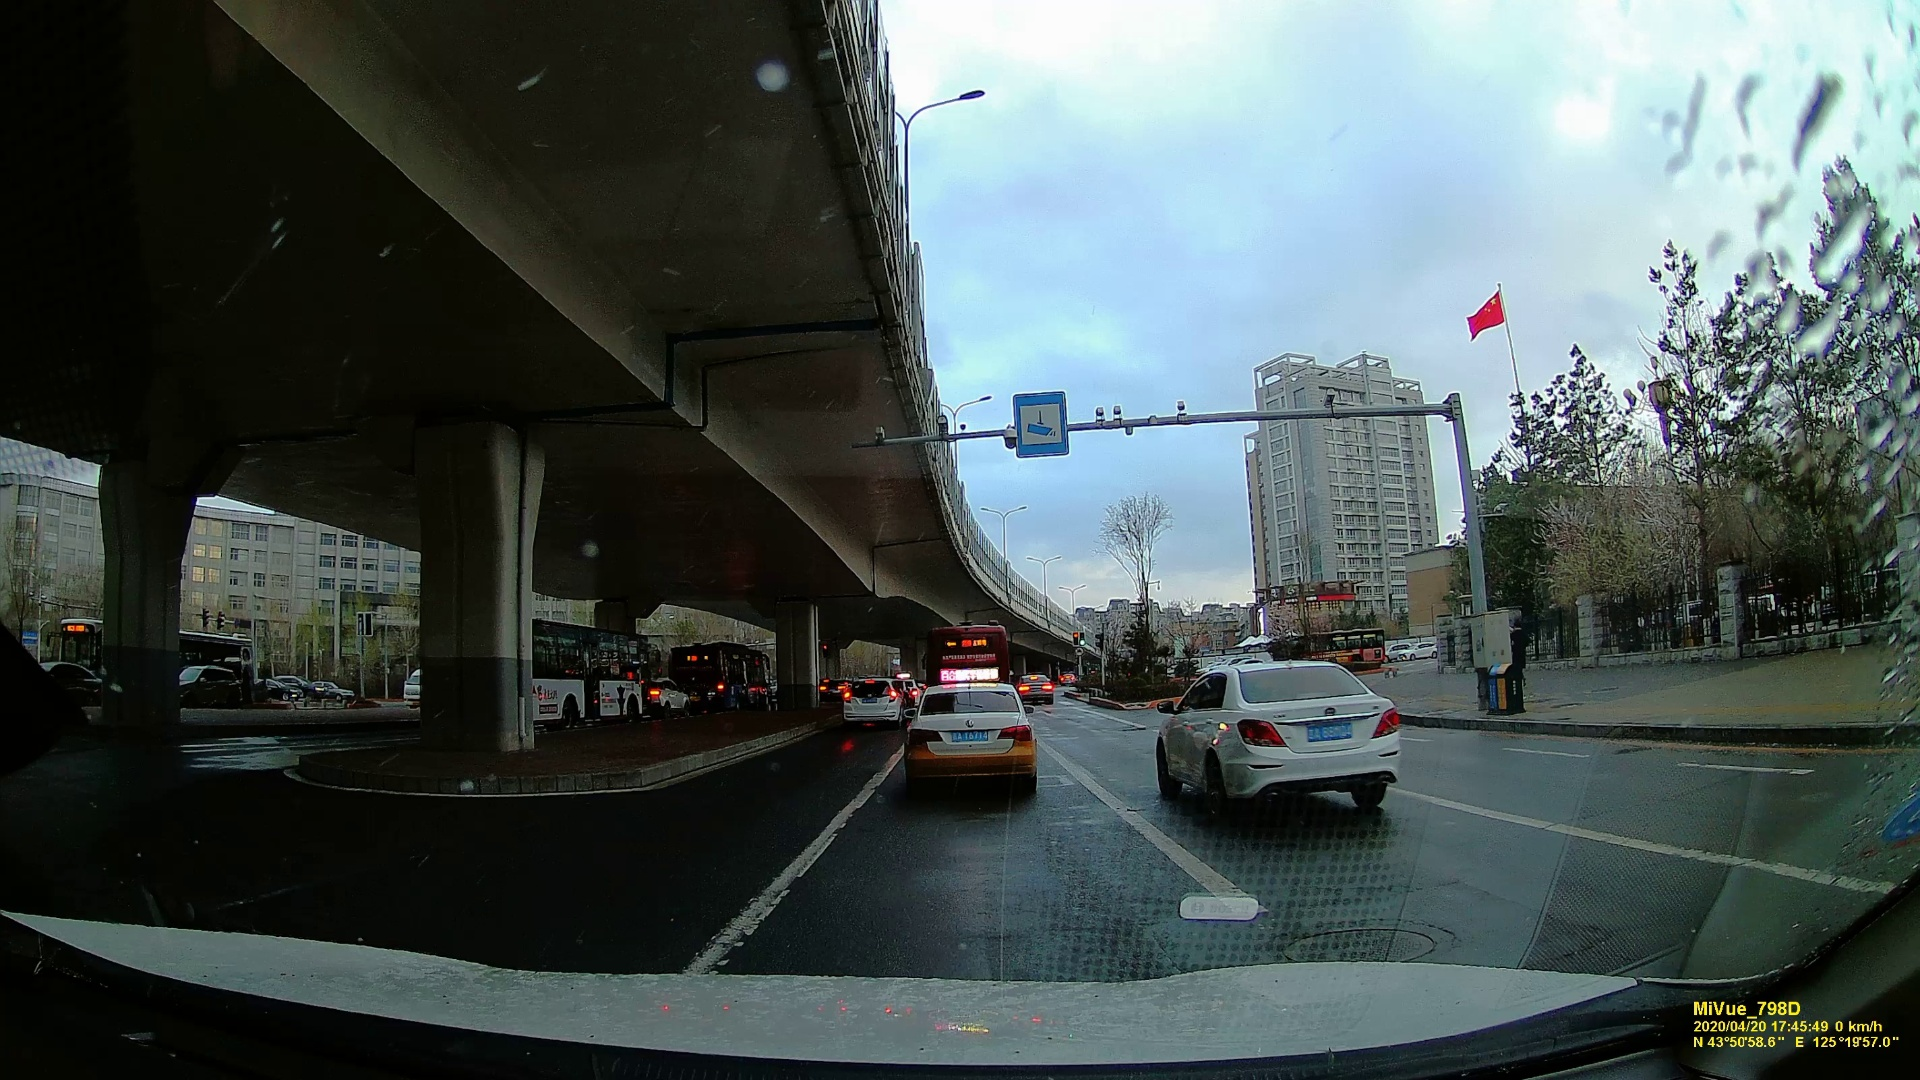bus: (531, 618, 653, 735), (673, 644, 771, 712), (924, 624, 1007, 687)
traffic_sign: (1010, 390, 1072, 456)
vehicle: (1155, 658, 1410, 819), (899, 682, 1040, 798), (841, 675, 911, 728), (1018, 674, 1056, 704)
